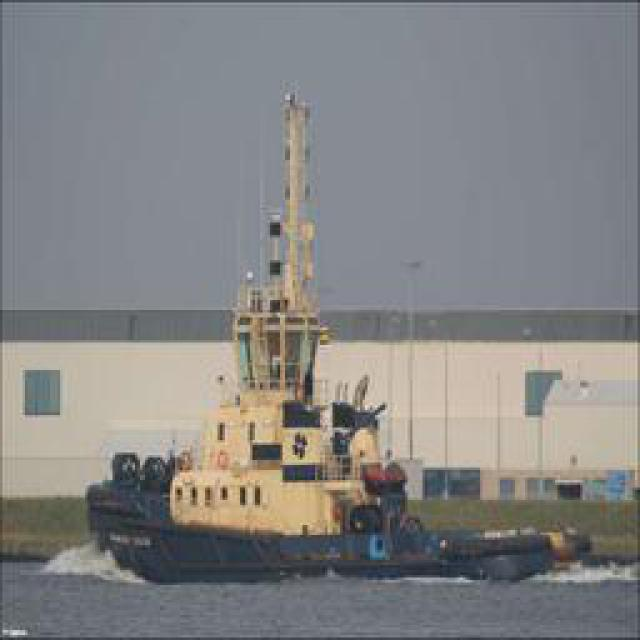Ship: (94, 495, 584, 585)
